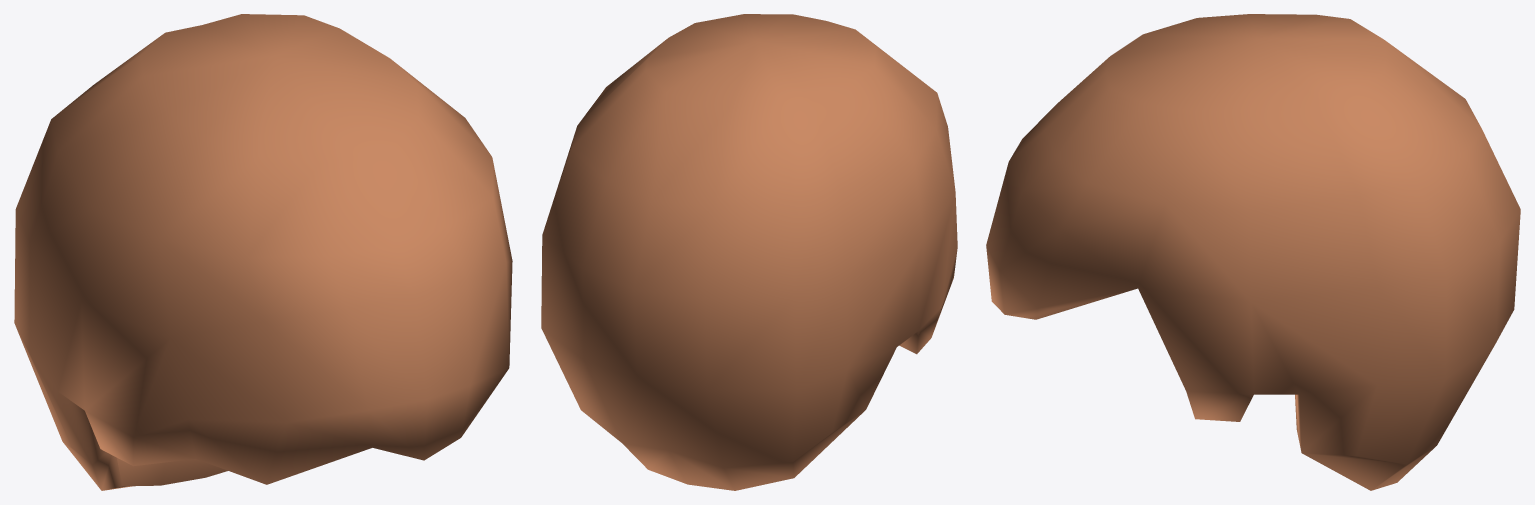
The model's file is Simple2.fbx.
3 renders of one model, left to right at view 1: azimuth 30°, elevation 25°; view 2: azimuth 150°, elevation 25°; view 3: azimuth 270°, elevation 25°, orthographic. The views are drawn at different scales.
Visible parts, largest first — view 1: 03 Hair - Simple 02; view 2: 03 Hair - Simple 02; view 3: 03 Hair - Simple 02.
Boxes of the visible parts, x1,y1,x2,y2 form: 03 Hair - Simple 02: [14, 14, 512, 490]; 03 Hair - Simple 02: [541, 14, 957, 490]; 03 Hair - Simple 02: [986, 14, 1520, 490].
Size of the model in its own units: 0.2207 by 0.2529 by 0.2901.
